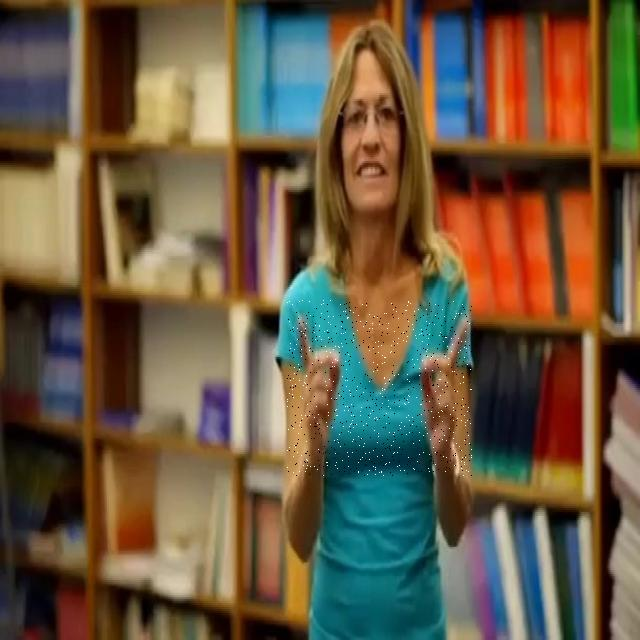sweet: (287, 300, 472, 476)
